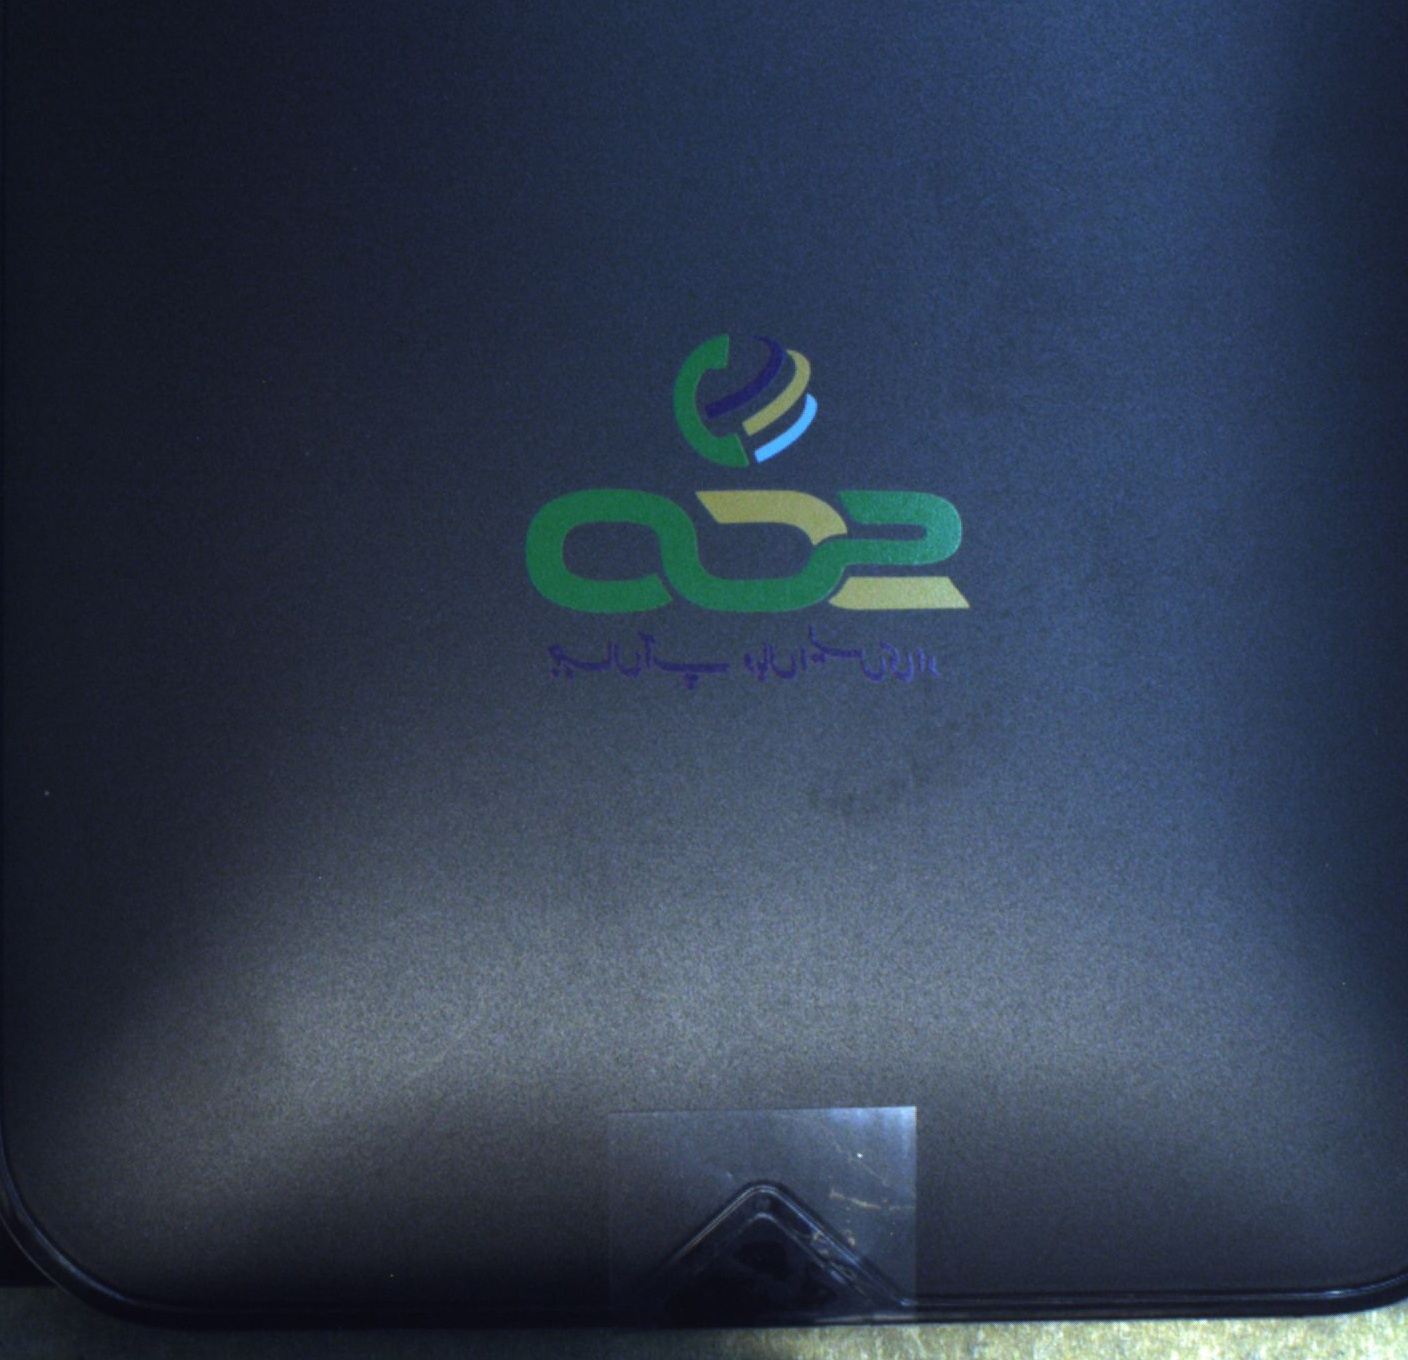BZ_HG680PSCOFirbeHome: (503, 313, 1008, 740)
